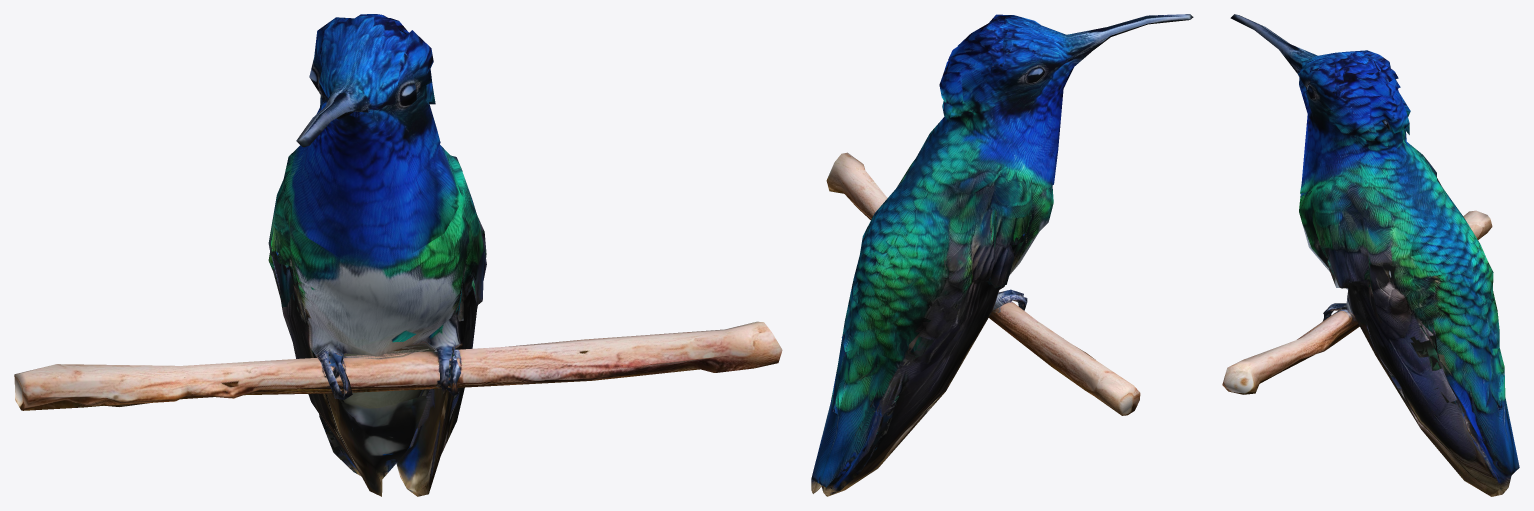
File: colibri.glb
3 renders of one model, left to right at view 1: azimuth 30°, elevation 25°; view 2: azimuth 150°, elevation 25°; view 3: azimuth 270°, elevation 25°, orthographic. The views are drawn at different scales.
Visible parts, largest first — view 1: tripo_node_24740760-d61c-47f4-b604-6b78b0ededbc; view 2: tripo_node_24740760-d61c-47f4-b604-6b78b0ededbc; view 3: tripo_node_24740760-d61c-47f4-b604-6b78b0ededbc.
Part boxes in pixels (x1,y1,x2,y2): tripo_node_24740760-d61c-47f4-b604-6b78b0ededbc: [14, 14, 782, 496]; tripo_node_24740760-d61c-47f4-b604-6b78b0ededbc: [811, 14, 1193, 496]; tripo_node_24740760-d61c-47f4-b604-6b78b0ededbc: [1222, 14, 1519, 496].
Size of the model in its own units: 0.9891 by 0.9691 by 0.6595.
Materials: 1 (1 with a texture image).
